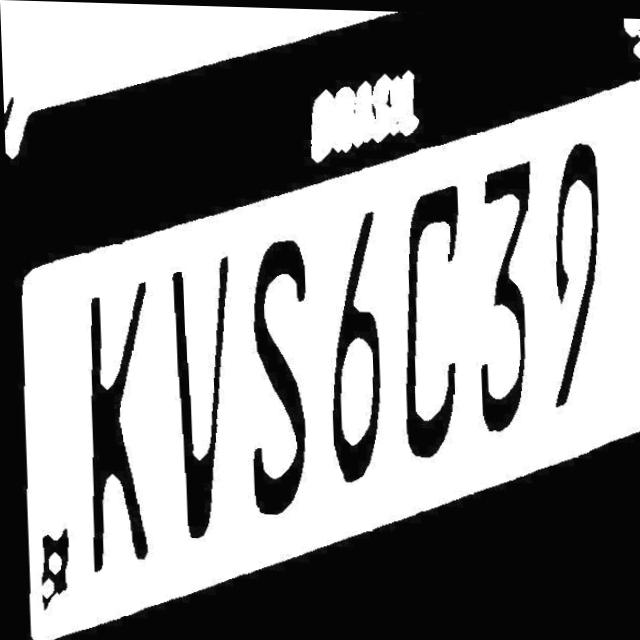3: (476, 136, 549, 432)
6: (327, 205, 397, 499)
9: (539, 118, 613, 412)
c: (405, 156, 479, 456)
k: (79, 263, 160, 584)
s: (234, 228, 322, 526)
v: (161, 241, 245, 547)
